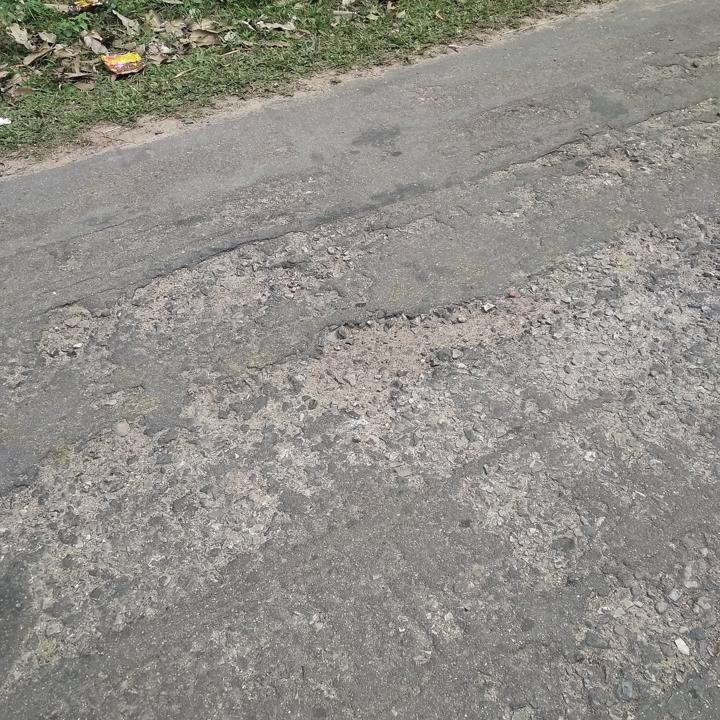pothole: (294, 295, 535, 403), (122, 229, 324, 324), (36, 300, 102, 365)
